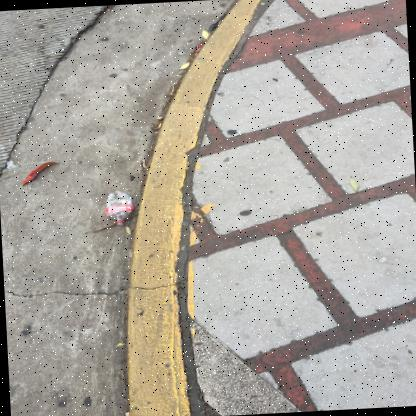Cigarette: (125, 412, 130, 416), (157, 122, 160, 127)
Clear plastic bottle: (105, 190, 133, 226)
